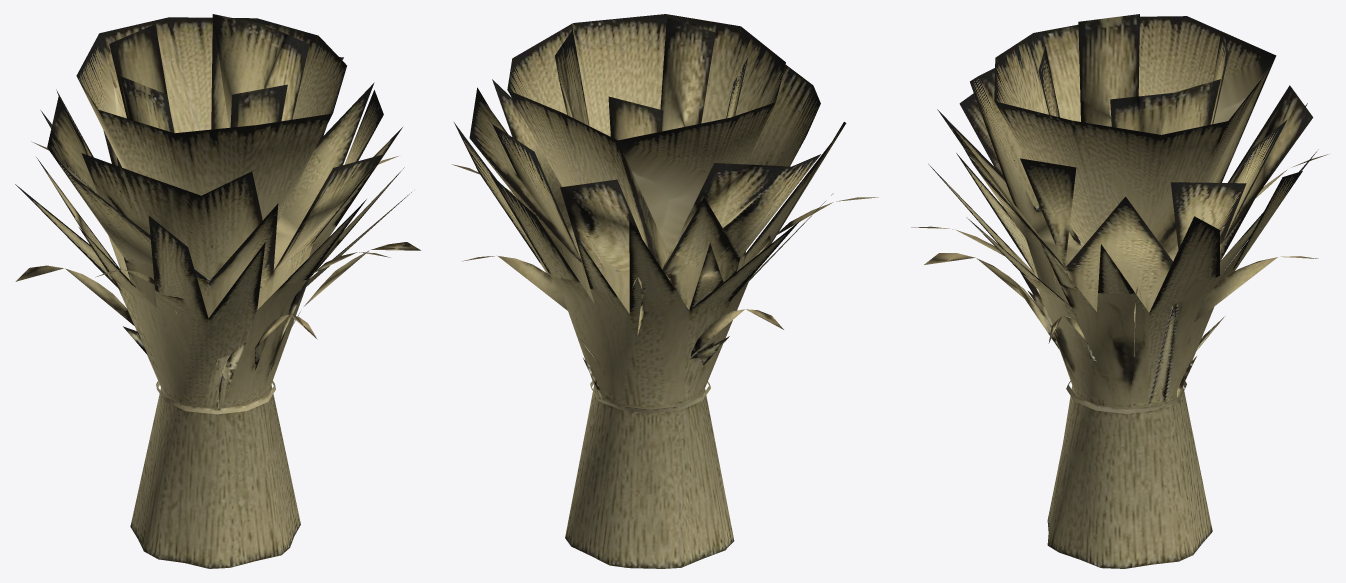
File: tripo_convert_a22ce0b8-d4f7-4aa2-a951-7aebcf6e8790.fbx
The picture shows the model from 3 angles, left to right: view 1: azimuth 30°, elevation 25°; view 2: azimuth 150°, elevation 25°; view 3: azimuth 270°, elevation 25°; orthographic projection.
Parts seen in each view (by area): view 1: tripo_node_a22ce0b8; view 2: tripo_node_a22ce0b8; view 3: tripo_node_a22ce0b8.
Boxes of the visible parts, bbox=[...] form: tripo_node_a22ce0b8: bbox=[15, 14, 420, 568]; tripo_node_a22ce0b8: bbox=[452, 14, 878, 568]; tripo_node_a22ce0b8: bbox=[911, 14, 1328, 568].
Size of the model in its own units: 0.8105 by 0.998 by 0.8027.
